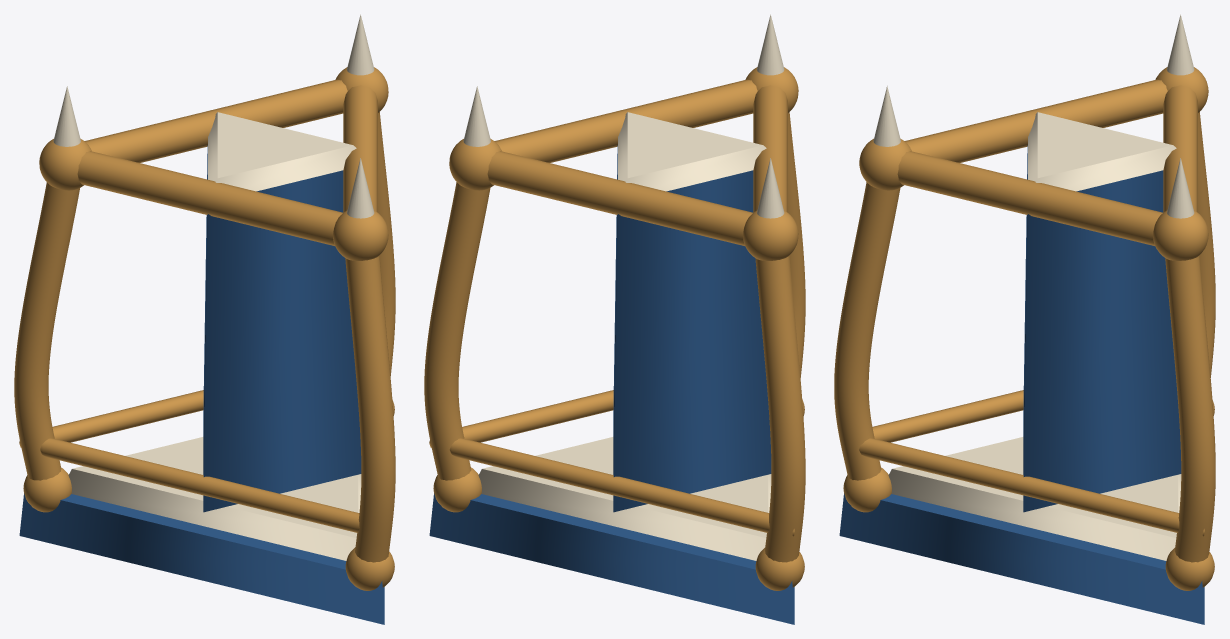
The model's file is sentinel_blue.glb.
The picture shows the model from 3 angles, left to right: view 1: azimuth 30°, elevation 25°; view 2: azimuth 150°, elevation 25°; view 3: azimuth 270°, elevation 25°; orthographic projection.
Parts seen in each view (by area): view 1: core, crown, base, base_step, rib_1, rib_3, girdle, core_cap, rib_2, apex_cap_1, apex_cap_3, rib_foot_3 (+5 smaller); view 2: core, crown, base, base_step, rib_3, rib_2, girdle, core_cap, rib_1, apex_cap_3, apex_cap_2, rib_foot_2 (+5 smaller); view 3: core, crown, base, base_step, rib_2, rib_1, girdle, core_cap, rib_3, apex_cap_2, apex_cap_1, rib_foot_1 (+5 smaller).
Part boxes in pixels (bbox=[...]): core: bbox=[203, 145, 361, 512]; crown: bbox=[77, 79, 377, 245]; base: bbox=[19, 493, 384, 624]; base_step: bbox=[68, 437, 361, 560]; rib_1: bbox=[345, 255, 395, 562]; rib_3: bbox=[14, 182, 79, 480]; girdle: bbox=[19, 390, 359, 532]; core_cap: bbox=[208, 112, 356, 191]; rib_2: bbox=[378, 112, 395, 375]; apex_cap_1: bbox=[333, 210, 388, 260]; apex_cap_3: bbox=[39, 138, 91, 190]; rib_foot_3: bbox=[23, 468, 71, 512]; core: bbox=[613, 145, 771, 512]; crown: bbox=[487, 79, 787, 245]; base: bbox=[429, 493, 794, 624]; base_step: bbox=[478, 437, 771, 560]; rib_3: bbox=[755, 256, 805, 562]; rib_2: bbox=[424, 182, 490, 480]; girdle: bbox=[429, 365, 799, 536]; core_cap: bbox=[618, 112, 766, 191]; rib_1: bbox=[788, 112, 805, 377]; apex_cap_3: bbox=[743, 210, 798, 260]; apex_cap_2: bbox=[449, 138, 501, 190]; rib_foot_2: bbox=[433, 467, 481, 512]; core: bbox=[1023, 145, 1181, 512]; crown: bbox=[897, 79, 1197, 245]; base: bbox=[839, 493, 1204, 624]; base_step: bbox=[888, 437, 1181, 560]; rib_2: bbox=[1165, 255, 1215, 562]; rib_1: bbox=[834, 182, 900, 480]; girdle: bbox=[859, 390, 1204, 536]; core_cap: bbox=[1028, 112, 1176, 191]; rib_3: bbox=[1198, 112, 1215, 377]; apex_cap_2: bbox=[1153, 210, 1208, 260]; apex_cap_1: bbox=[859, 138, 911, 190]; rib_foot_1: bbox=[843, 467, 891, 512].
Bounding box in the file's own units: 0.0265 × 0.0302 × 0.0232.
